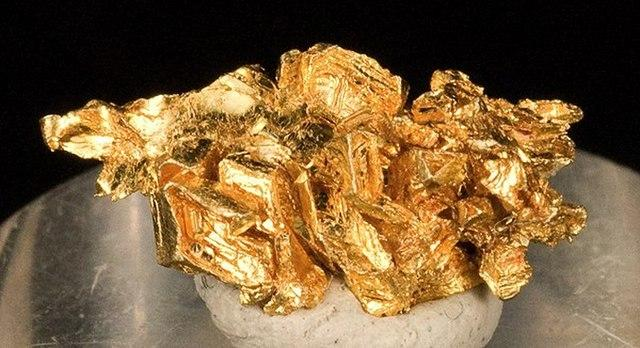gold: (34, 37, 598, 324)
